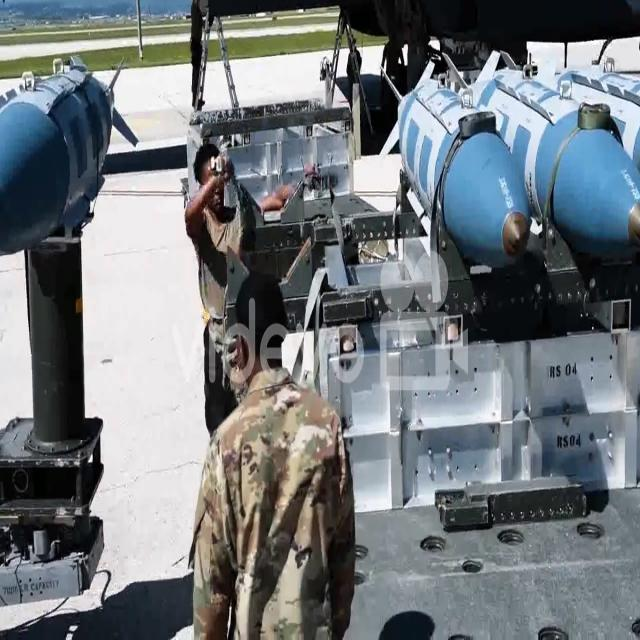rocket: (397, 58, 640, 271)
